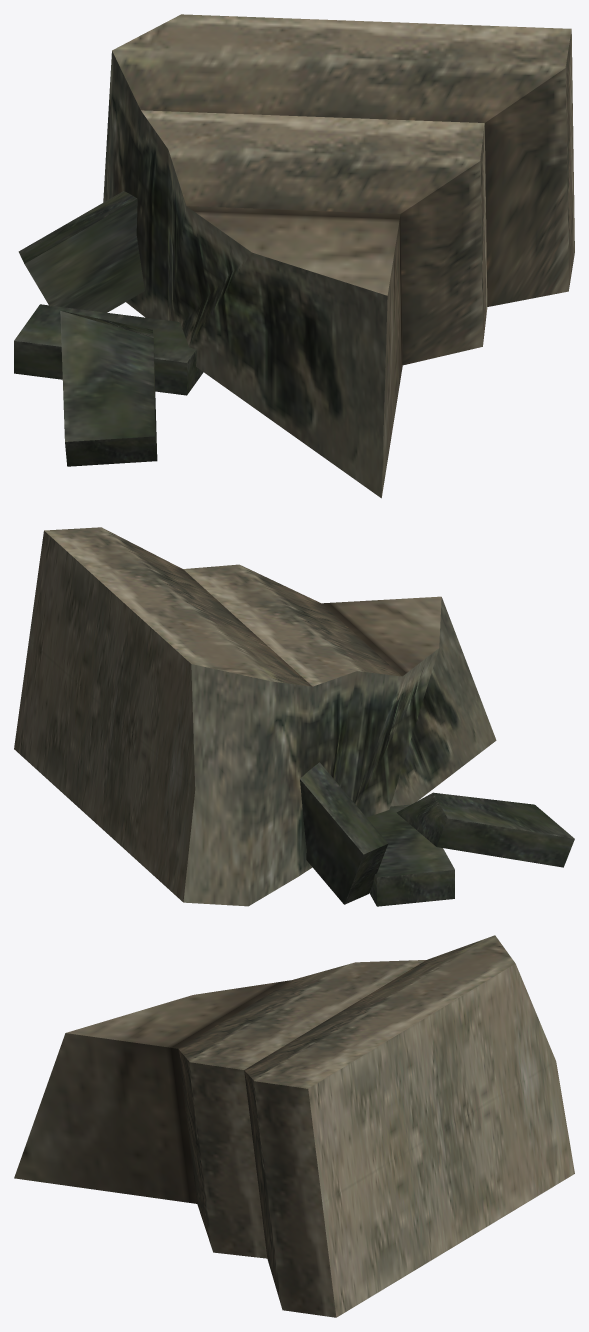
Rendered from poqiang_xn_64.FBX.
3 views of the same model, one above another, from view 1: azimuth 30°, elevation 25°; view 2: azimuth 150°, elevation 25°; view 3: azimuth 270°, elevation 25° (orthographic). The views are drawn at different scales.
Visible parts, largest first — view 1: poqiang_xn_64; view 2: poqiang_xn_64; view 3: poqiang_xn_64.
Part boxes in pixels (x1,y1,x2,y2): poqiang_xn_64: (14, 14, 574, 498); poqiang_xn_64: (14, 527, 574, 906); poqiang_xn_64: (14, 935, 574, 1317).
Size of what is drawn, in the model's own units: 182 by 84.18 by 168.
